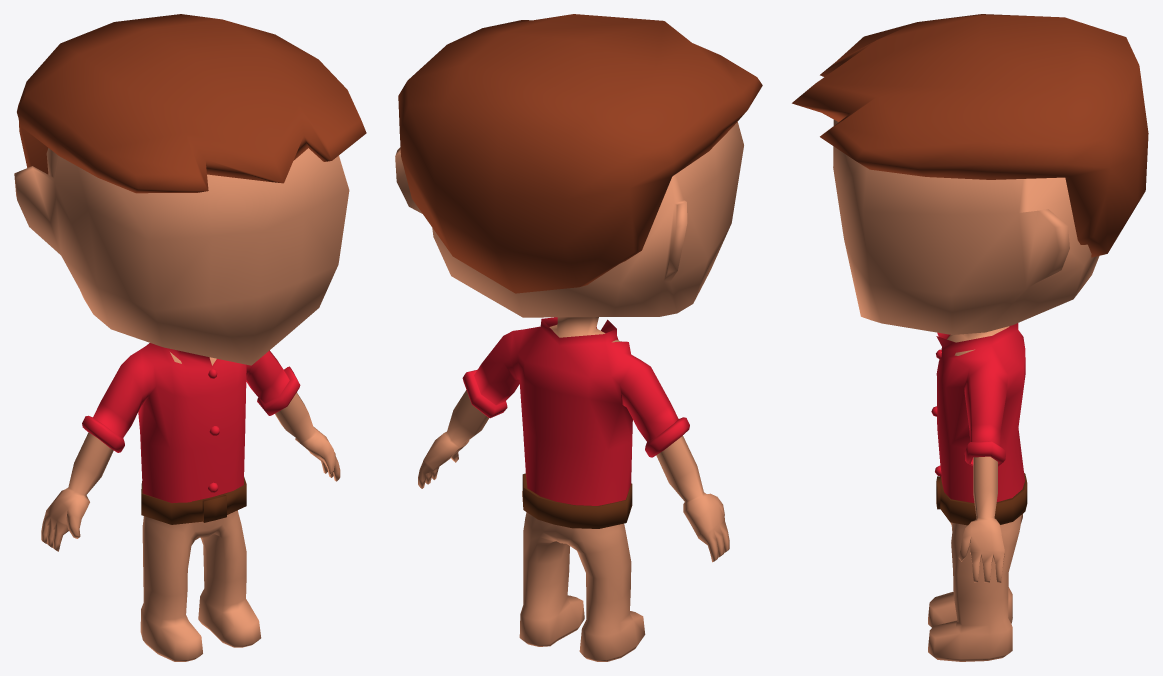
The model's file is brock blockout.fbx.
The picture shows the model from 3 angles, left to right: view 1: azimuth 30°, elevation 25°; view 2: azimuth 150°, elevation 25°; view 3: azimuth 270°, elevation 25°; orthographic projection. The views are drawn at different scales.
Parts seen in each view (by area): view 1: Brock base.001; view 2: Brock base.001; view 3: Brock base.001.
Boxes of the visible parts, <box> form: Brock base.001: <box>14,14,366,661</box>; Brock base.001: <box>395,14,762,661</box>; Brock base.001: <box>792,14,1148,661</box>.
Bounding box in the file's own units: 235 × 455 × 248.
